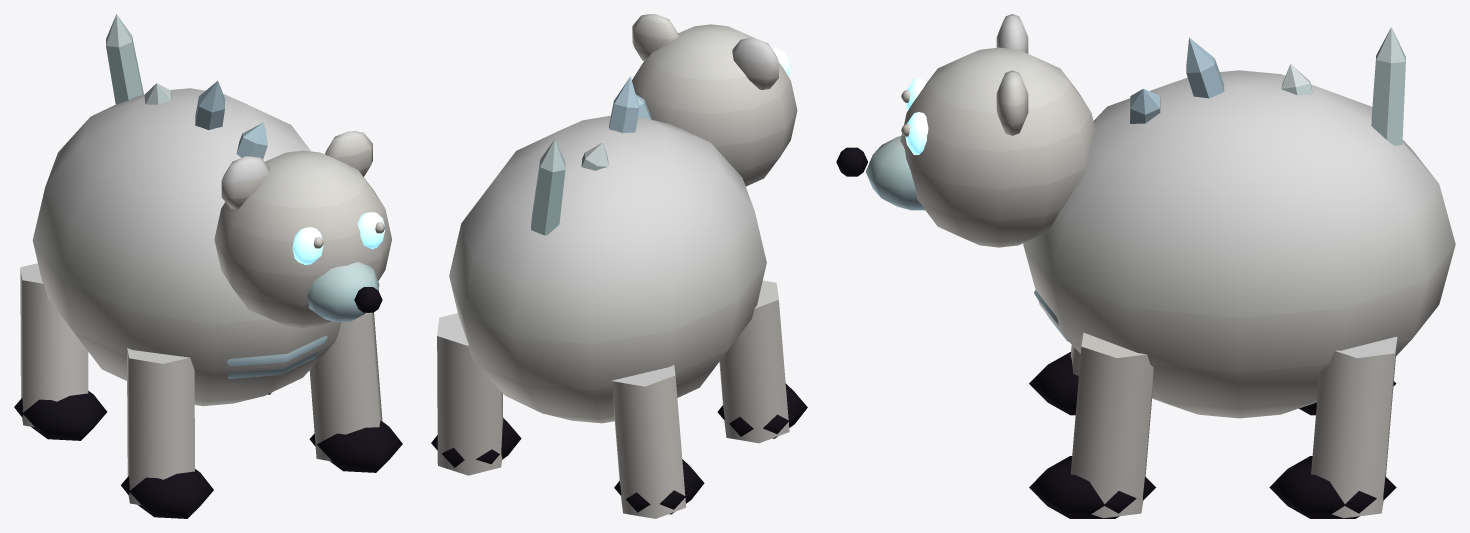
Rendered from monster_frost_bear.glb.
The picture shows the model from 3 angles, left to right: view 1: azimuth 30°, elevation 25°; view 2: azimuth 150°, elevation 25°; view 3: azimuth 270°, elevation 25°; orthographic projection. The views are drawn at different scales.
Parts seen in each view (by area): view 1: body_t0_palette, legl_t0_palette, legr_t0_palette, body_t0_glow_blue; view 2: body_t0_palette, legl_t0_palette, legr_t0_palette; view 3: body_t0_palette, legr_t0_palette, legl_t0_palette, body_t0_glow_blue.
Part boxes in pixels (x1,y1,x2,y2): body_t0_palette: [32, 14, 391, 406]; legl_t0_palette: [14, 263, 213, 518]; legr_t0_palette: [268, 312, 402, 472]; body_t0_glow_blue: [292, 212, 384, 264]; body_t0_palette: [449, 14, 797, 423]; legl_t0_palette: [612, 280, 807, 518]; legr_t0_palette: [431, 313, 521, 475]; body_t0_palette: [836, 14, 1455, 418]; legr_t0_palette: [1029, 332, 1397, 518]; legl_t0_palette: [1029, 345, 1396, 415]; body_t0_glow_blue: [905, 78, 928, 155].
Size of the model in its own units: 0.261 by 0.3541 by 0.464.
